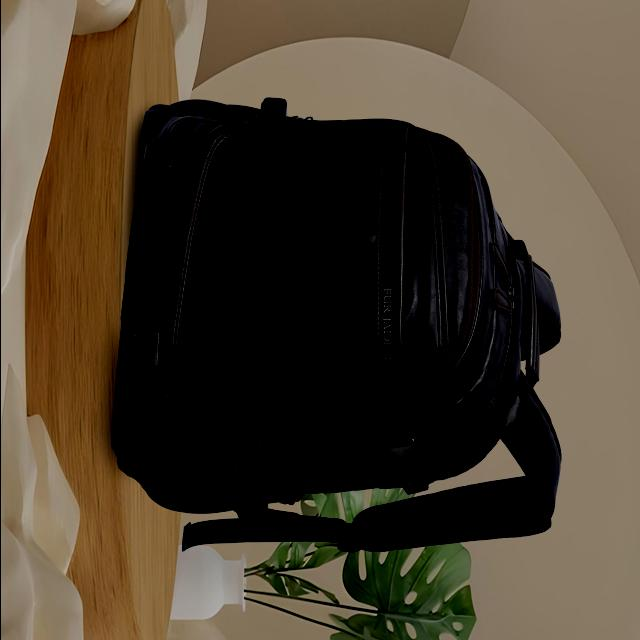backpack: (112, 98, 564, 554)
